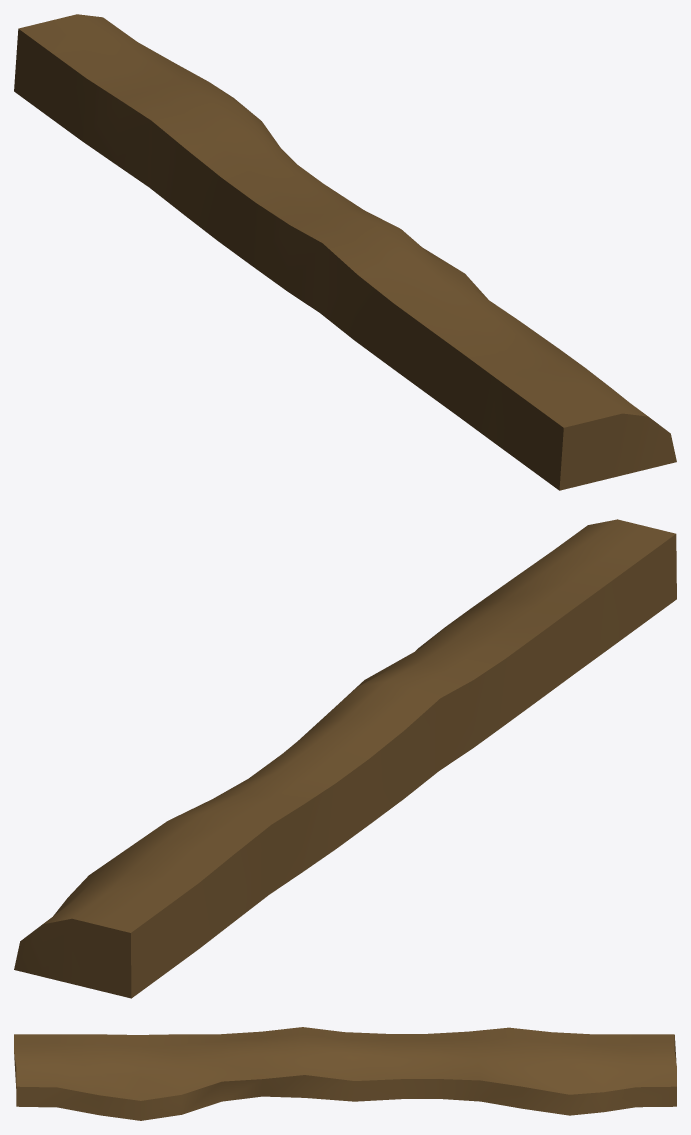
The model's file is CostadoTierra.fbx.
3 views of the same model, one above another, from view 1: azimuth 30°, elevation 25°; view 2: azimuth 150°, elevation 25°; view 3: azimuth 270°, elevation 25° (orthographic). The views are drawn at different scales.
Parts seen in each view (by area): view 1: Costado; view 2: Costado; view 3: Costado.
Boxes of the visible parts, x1,y1,x2,y2 form: Costado: [14, 14, 676, 490]; Costado: [14, 519, 676, 998]; Costado: [14, 1027, 676, 1120].
Bounding box in the file's own units: 828 × 523 × 5647.
